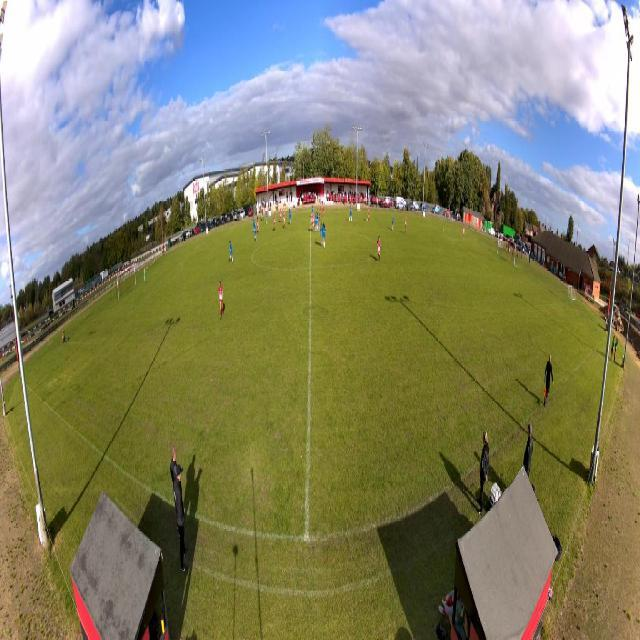ball: (443, 228, 444, 232)
player: (218, 278, 224, 320), (320, 222, 327, 249), (377, 235, 382, 261), (229, 240, 233, 264), (315, 212, 319, 232), (349, 204, 353, 223), (366, 203, 370, 222), (311, 212, 315, 231), (274, 213, 277, 232), (143, 267, 146, 286), (321, 203, 325, 217), (283, 212, 286, 230), (254, 223, 257, 241), (405, 216, 408, 234), (289, 208, 292, 225), (256, 217, 259, 233), (391, 214, 394, 230), (279, 209, 282, 224), (253, 216, 255, 232), (317, 208, 319, 223), (266, 210, 268, 224), (463, 228, 465, 240), (312, 204, 314, 213)
